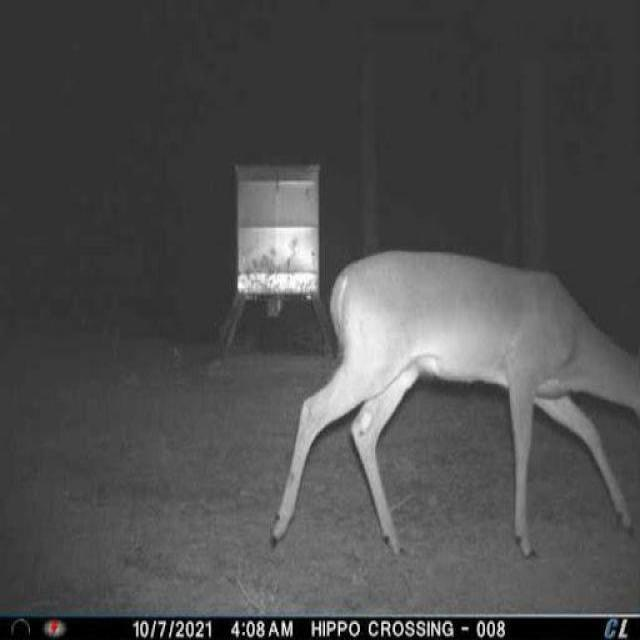deer: (269, 235, 640, 569)
